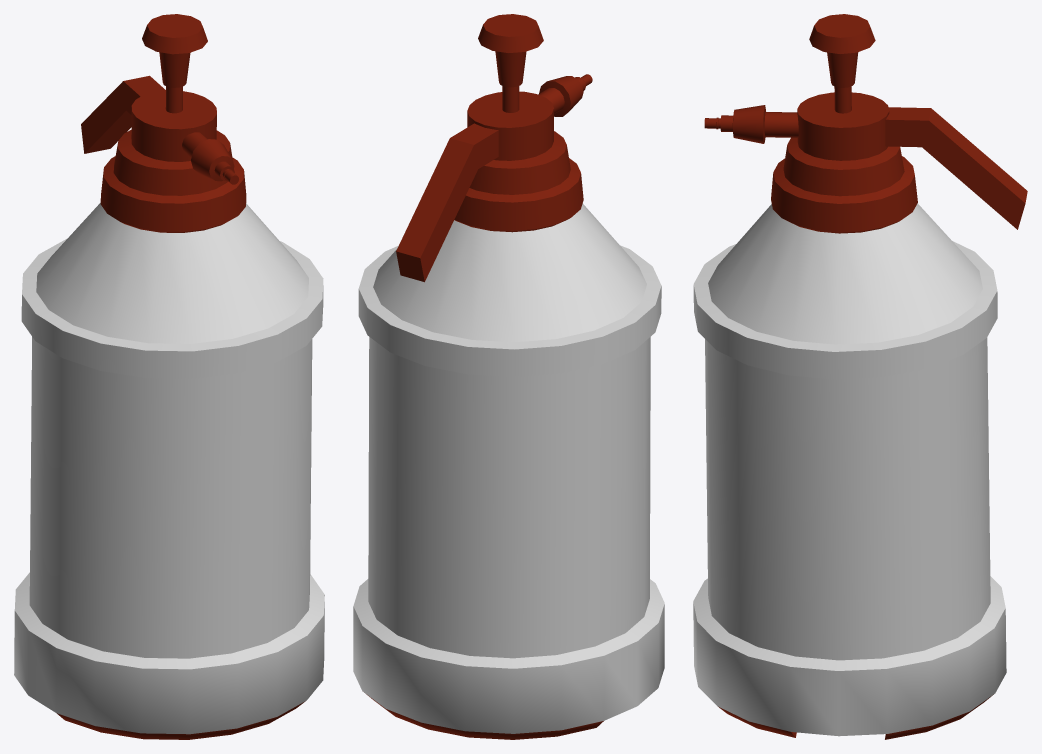
3 renders of one model, left to right at view 1: azimuth 30°, elevation 25°; view 2: azimuth 150°, elevation 25°; view 3: azimuth 270°, elevation 25°, orthographic.
Parts seen in each view (by area): view 1: ShuiHu; view 2: ShuiHu; view 3: ShuiHu.
Boxes of the visible parts, <box> form: ShuiHu: <box>14,14,324,739</box>; ShuiHu: <box>353,14,664,739</box>; ShuiHu: <box>693,14,1027,739</box>.
Bounding box in the file's own units: 22.21 × 51.52 × 23.75.
